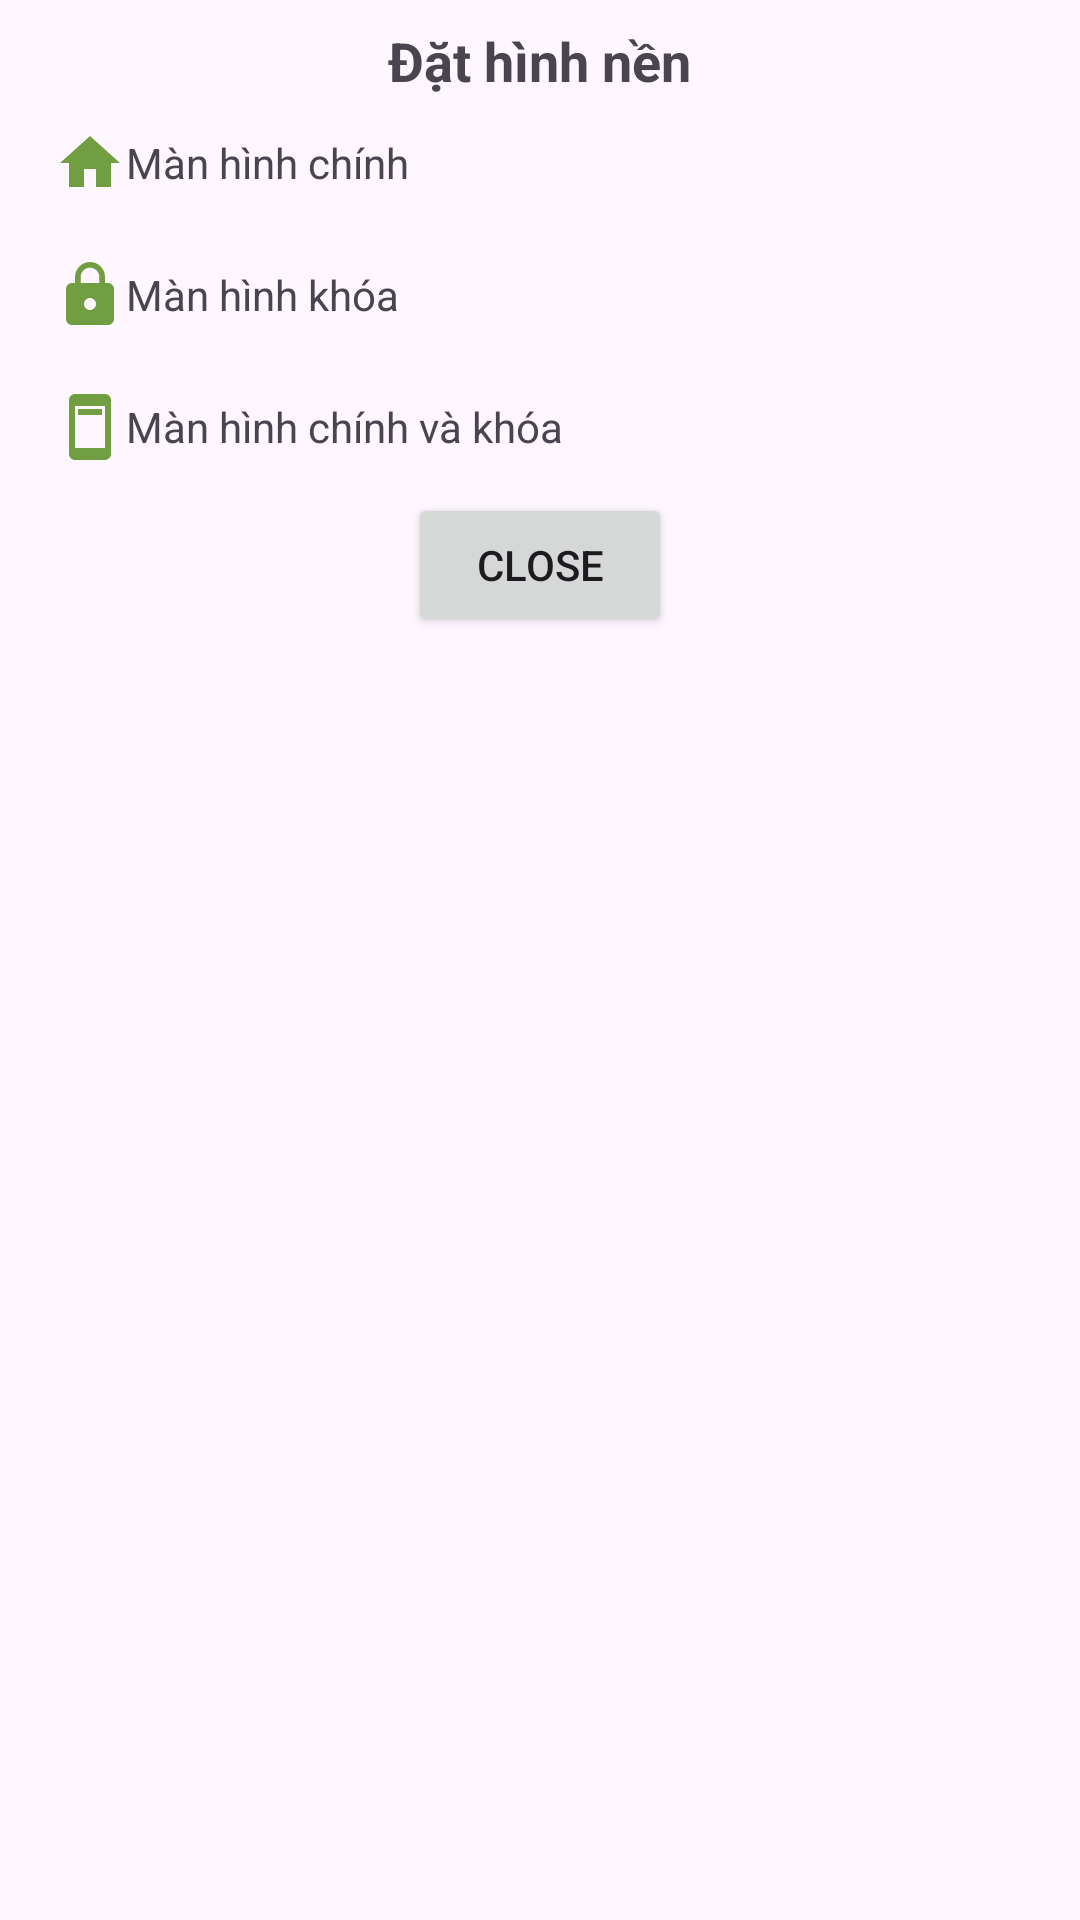

Screen size 1080w x 1920h. Icon name, then its box in pixels as (x1, y1, x2, y2):
ad units: (69, 394, 111, 460)
home: (60, 136, 120, 187)
lock: (66, 262, 114, 325)
